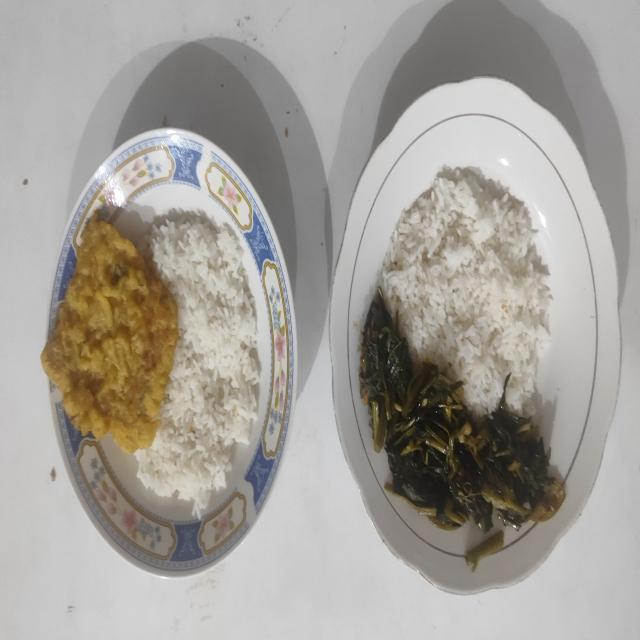nasi_putih: (379, 166, 552, 417), (134, 209, 260, 516)
tumis_kangkung: (359, 289, 565, 532)
